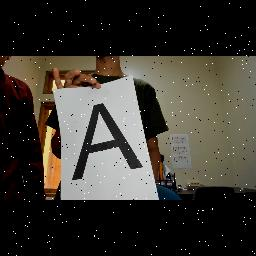a: (68, 98, 146, 188)
